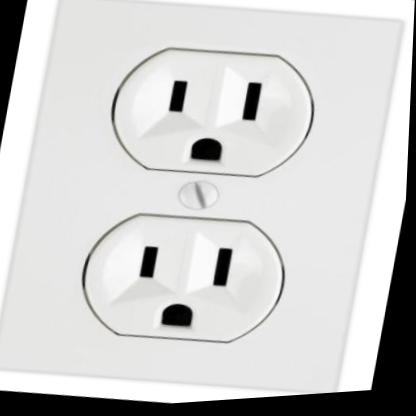OUTLET: (0, 0, 408, 416)
